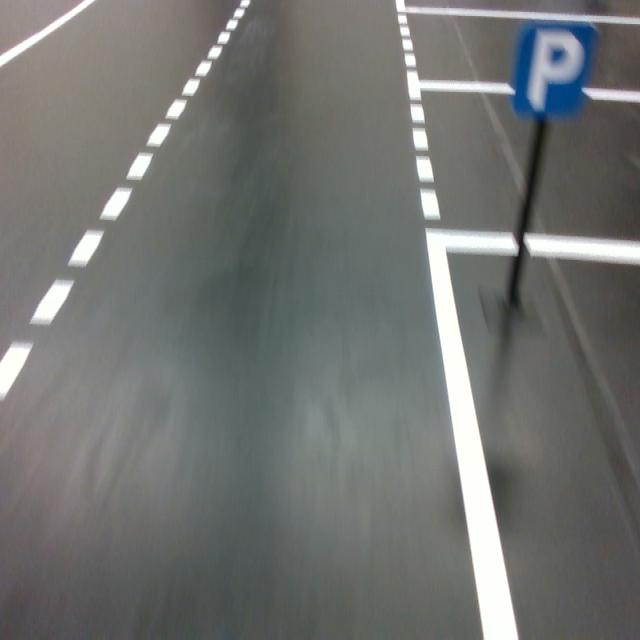parking-sign: (512, 23, 597, 117)
